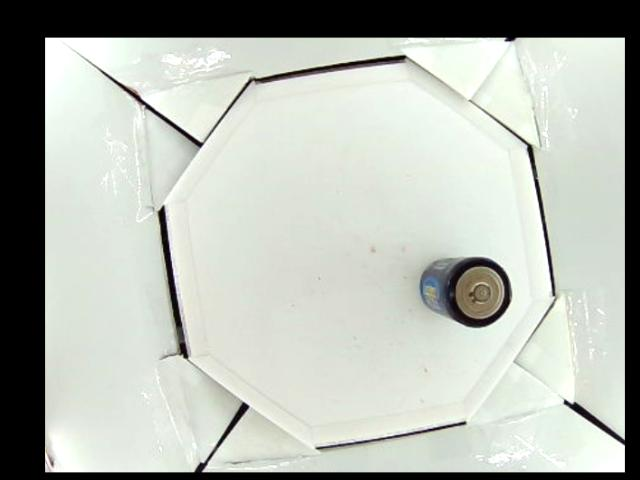Battery: (419, 257, 513, 328)
